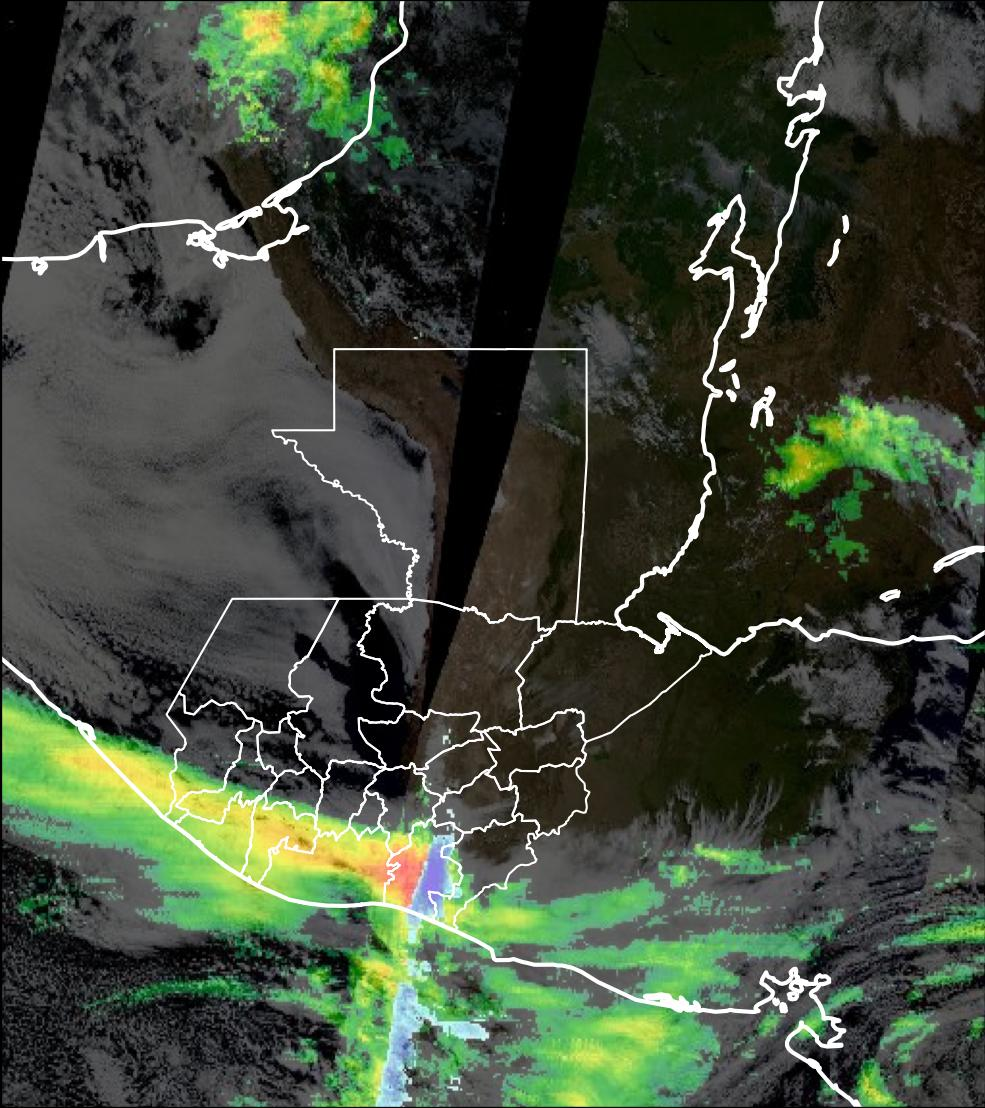precipitacion: (230, 6, 296, 64)
